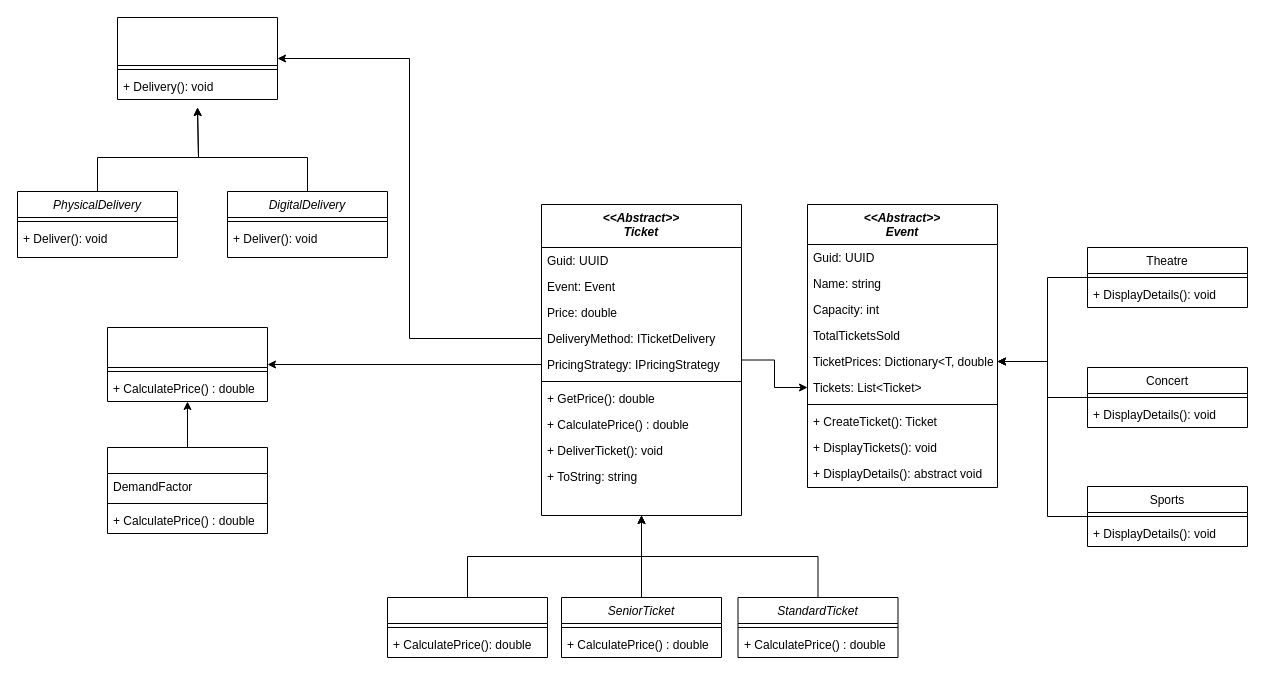
The diagram is 1265 pixels wide and 678 high, and some of its shapes have lost their labels. Here are the shapes that lost their labels. From the top down, the box of each, then its label:
(116, 16, 278, 100): <<Interface>> ITicketDelivery
(106, 326, 268, 402): <<Interface>> PricingStrategy
(106, 446, 268, 534): DynamicPricing
(386, 596, 548, 658): StudentTicket
